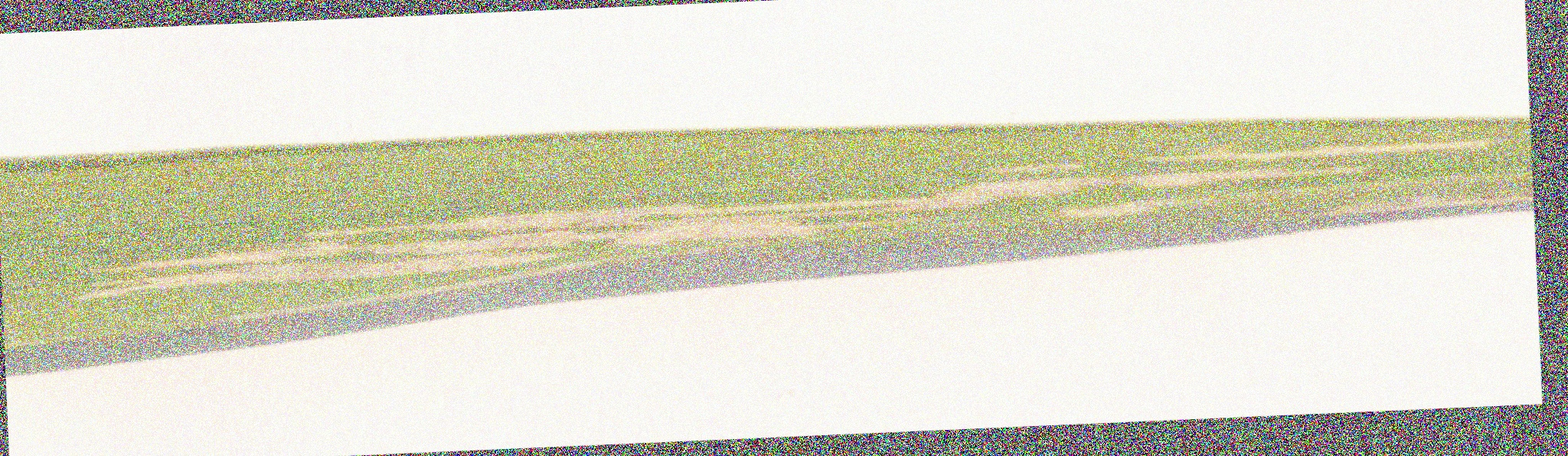Leaf_Blast: (47, 154, 1520, 306)
